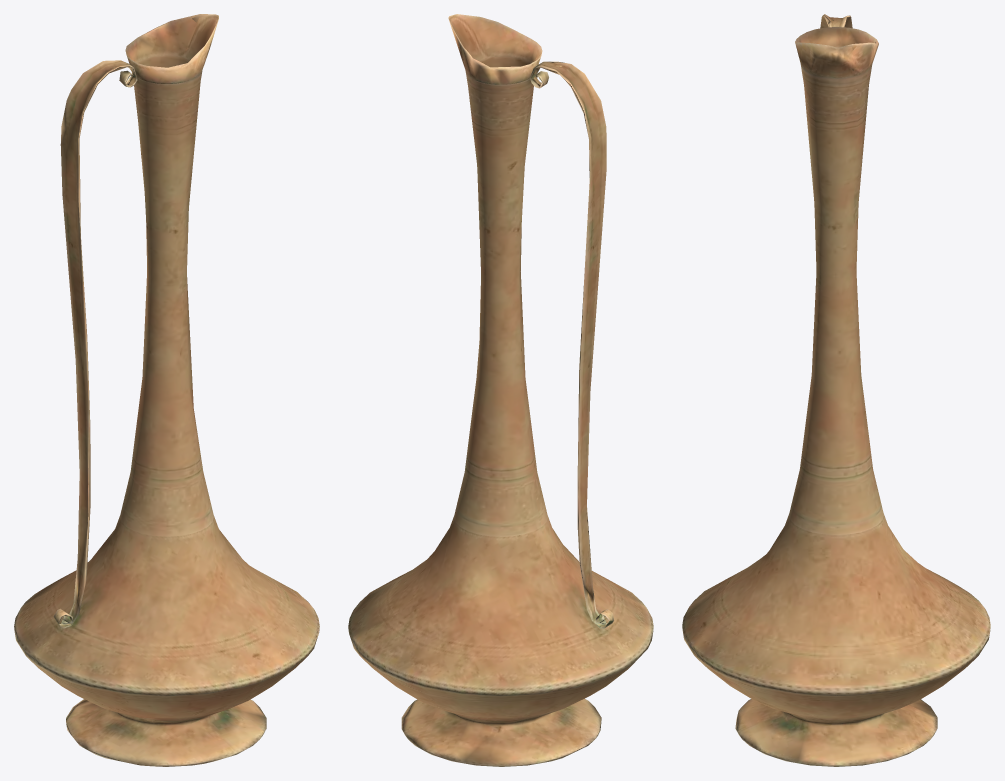
Rendered from brass_vase_02.glb.
3 views of the same model, side by side, from view 1: azimuth 30°, elevation 25°; view 2: azimuth 150°, elevation 25°; view 3: azimuth 270°, elevation 25° (orthographic).
Parts seen in each view (by area): view 1: brass_vase_02; view 2: brass_vase_02; view 3: brass_vase_02.
Part boxes in pixels (x1,y1,x2,y2): brass_vase_02: (14, 14, 319, 766); brass_vase_02: (348, 14, 653, 766); brass_vase_02: (682, 14, 990, 766).
Size of the model in its own units: 0.2097 by 0.5286 by 0.2101.
Materials: 1 (1 with a texture image).
